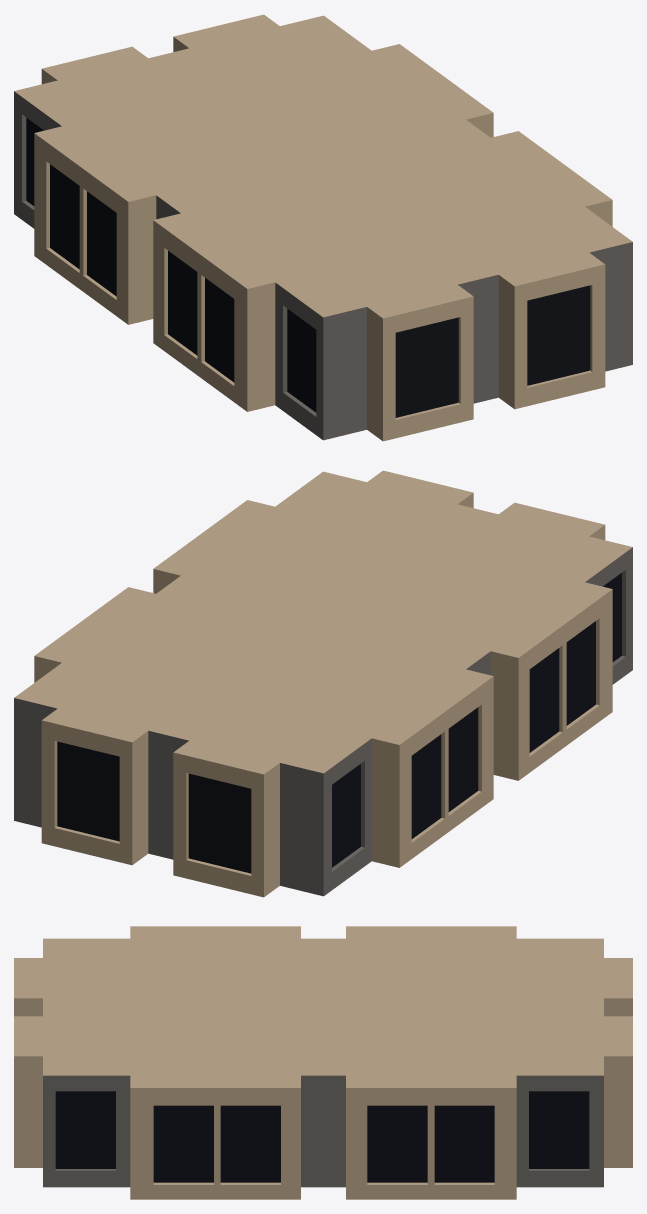
Rendered from buildingA2.obj.
3 renders of one model, top to bottom at view 1: azimuth 30°, elevation 25°; view 2: azimuth 150°, elevation 25°; view 3: azimuth 270°, elevation 25°, orthographic. The views are drawn at different scales.
Visible parts, largest first — view 1: Cube.006_Cube.013; view 2: Cube.006_Cube.013; view 3: Cube.006_Cube.013.
Boxes of the visible parts, <box> form: Cube.006_Cube.013: <box>14,14,632,441</box>; Cube.006_Cube.013: <box>14,470,632,897</box>; Cube.006_Cube.013: <box>14,926,632,1199</box>.
Size of the model in its own units: 8.94 by 2.88 by 14.47.
